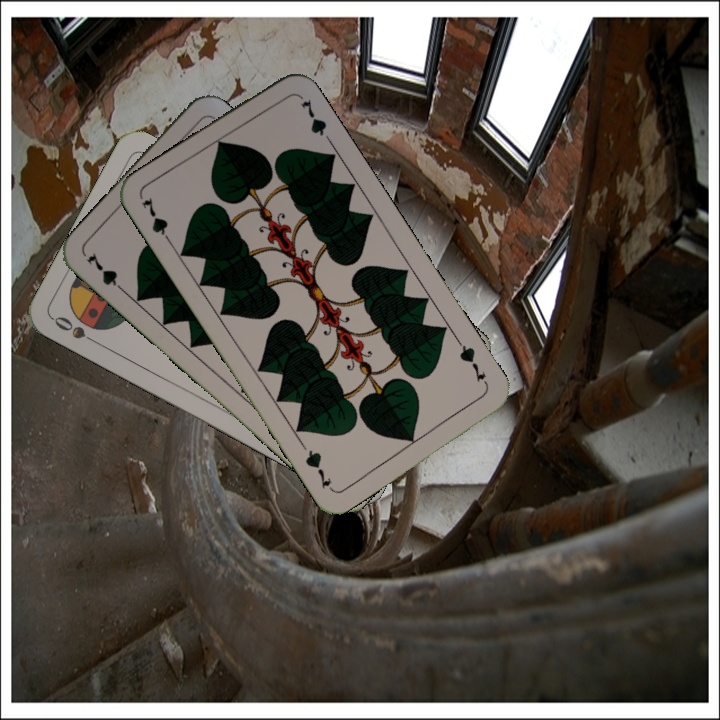G7: (82, 248, 130, 297), (137, 193, 176, 248), (453, 337, 491, 390)
SO: (49, 312, 104, 349)
